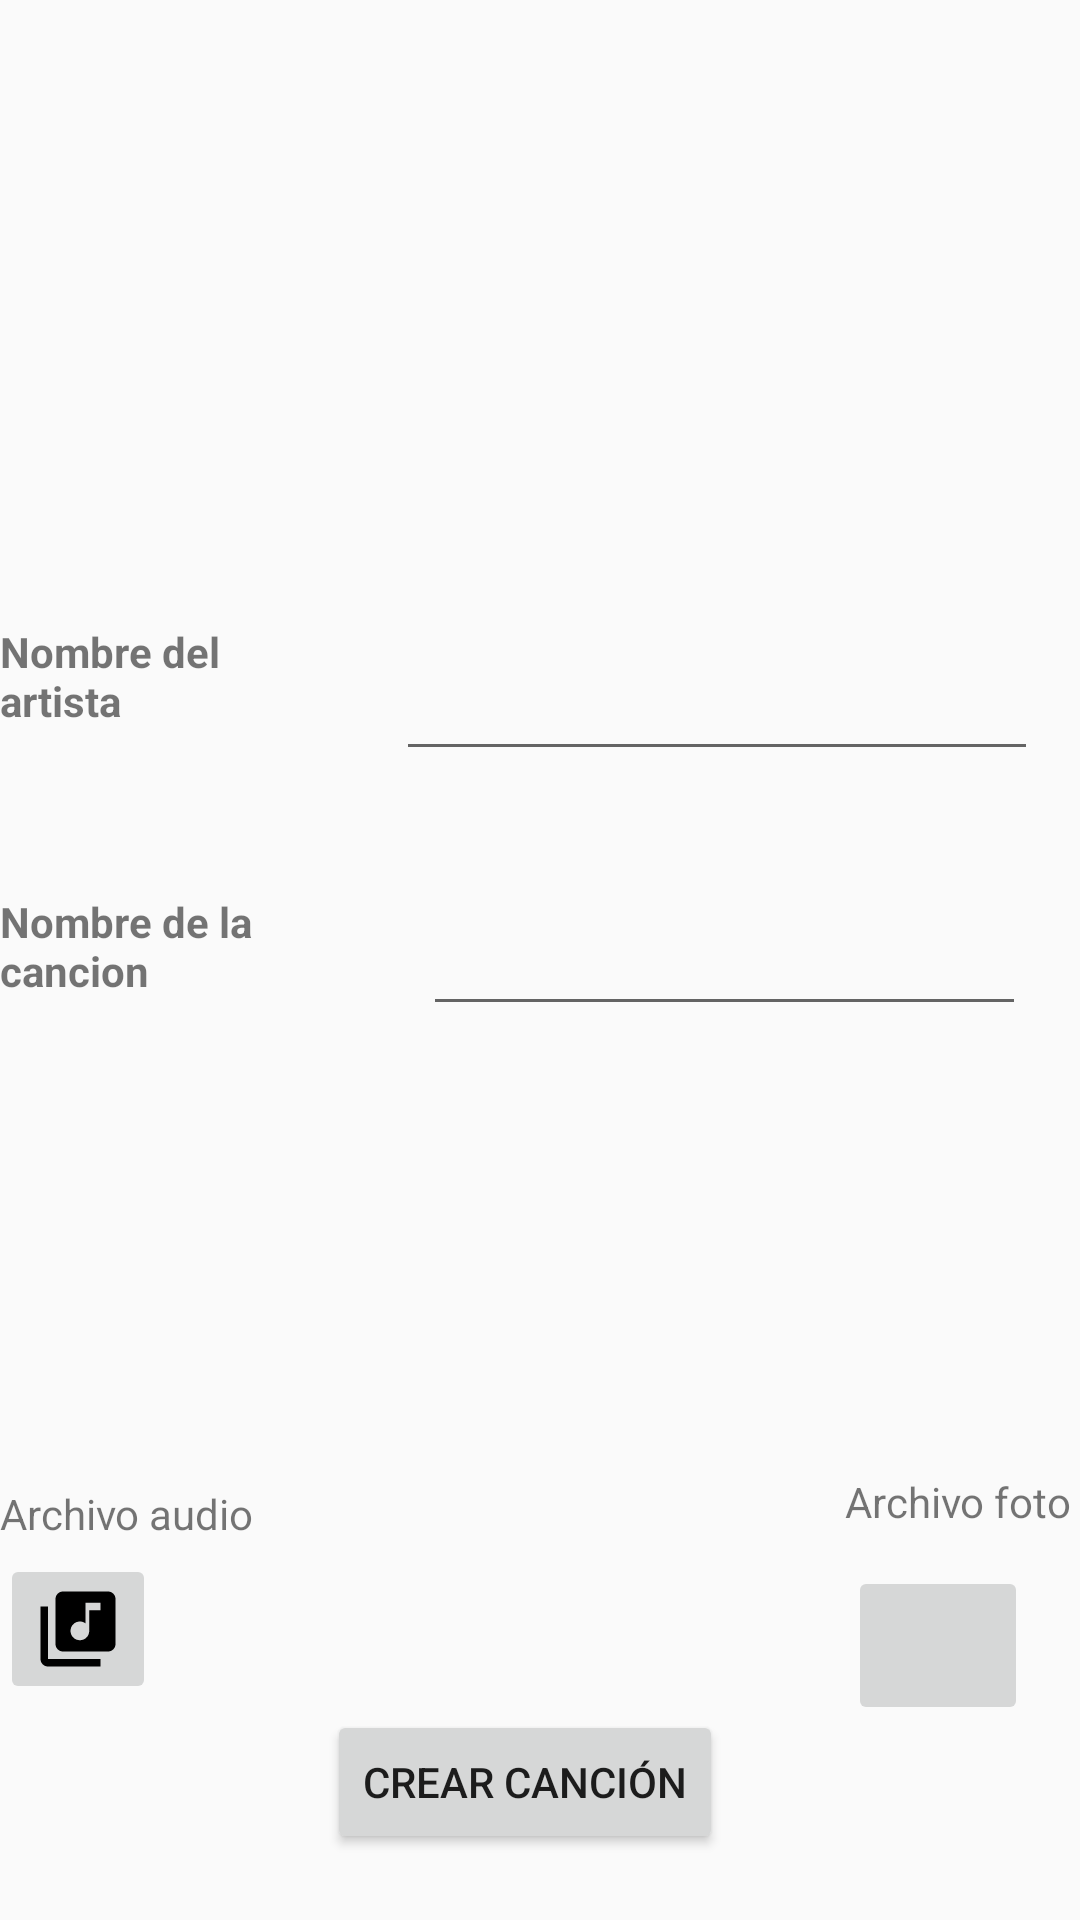

Screen size 1080x1920. Icon name, then its box in pixels as bbox=(x1, y1, x2, y2):
music: bbox=(12, 1572, 144, 1686)
